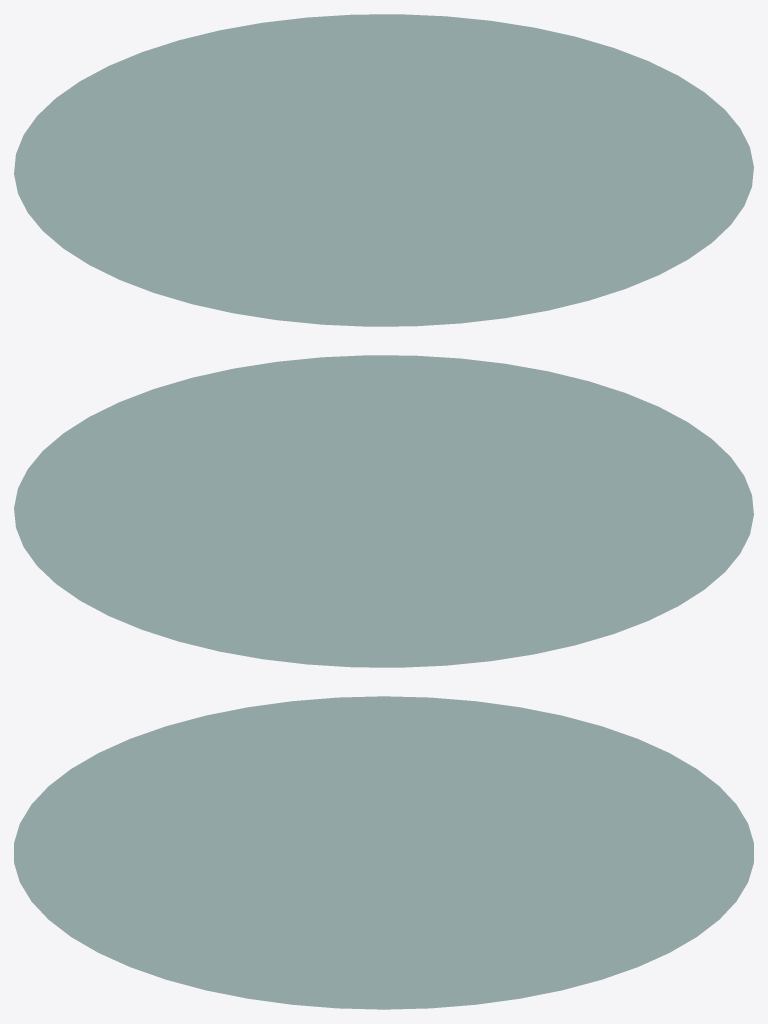
Rendered from mesh_dome_03.fbx.
3 renders of one model, top to bottom at view 1: azimuth 30°, elevation 25°; view 2: azimuth 150°, elevation 25°; view 3: azimuth 270°, elevation 25°, orthographic.
Parts seen in each view (by area): view 1: mesh_dome_03; view 2: mesh_dome_03; view 3: mesh_dome_03.
Boxes of the visible parts, x1,y1,x2,y2 form: mesh_dome_03: [14, 14, 753, 326]; mesh_dome_03: [14, 355, 753, 667]; mesh_dome_03: [14, 696, 753, 1009].
Size of the model in its own units: 17.78 by 0 by 17.75.
